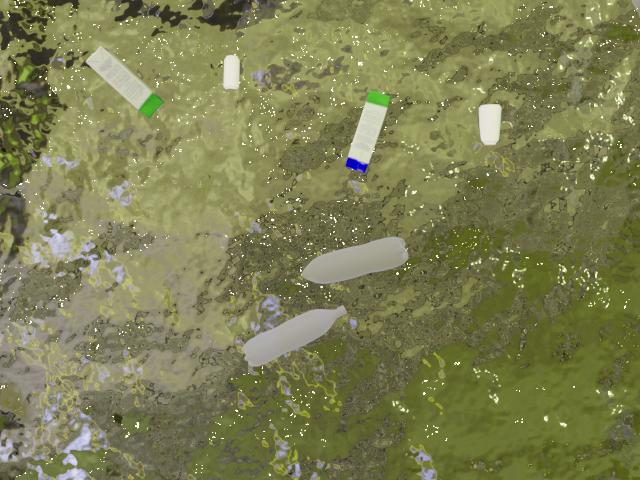Metal: (447, 103, 527, 162), (197, 42, 250, 105)
Plastic: (226, 296, 363, 378), (281, 225, 412, 294)
Trash: (323, 86, 416, 175), (82, 49, 161, 121)
